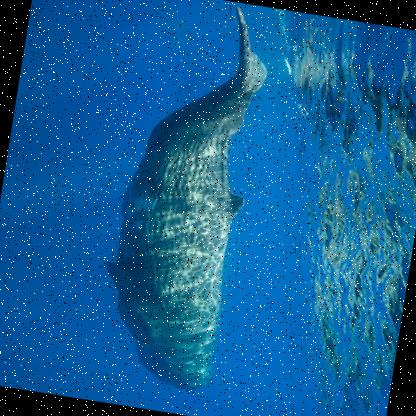sperm_whale: (70, 0, 284, 406)
